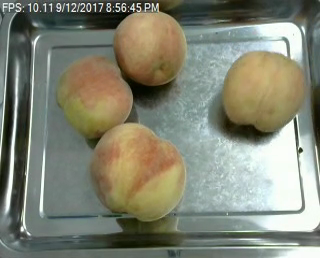Peach: (89, 122, 185, 221), (221, 49, 306, 133), (55, 53, 134, 139), (109, 8, 185, 86)
